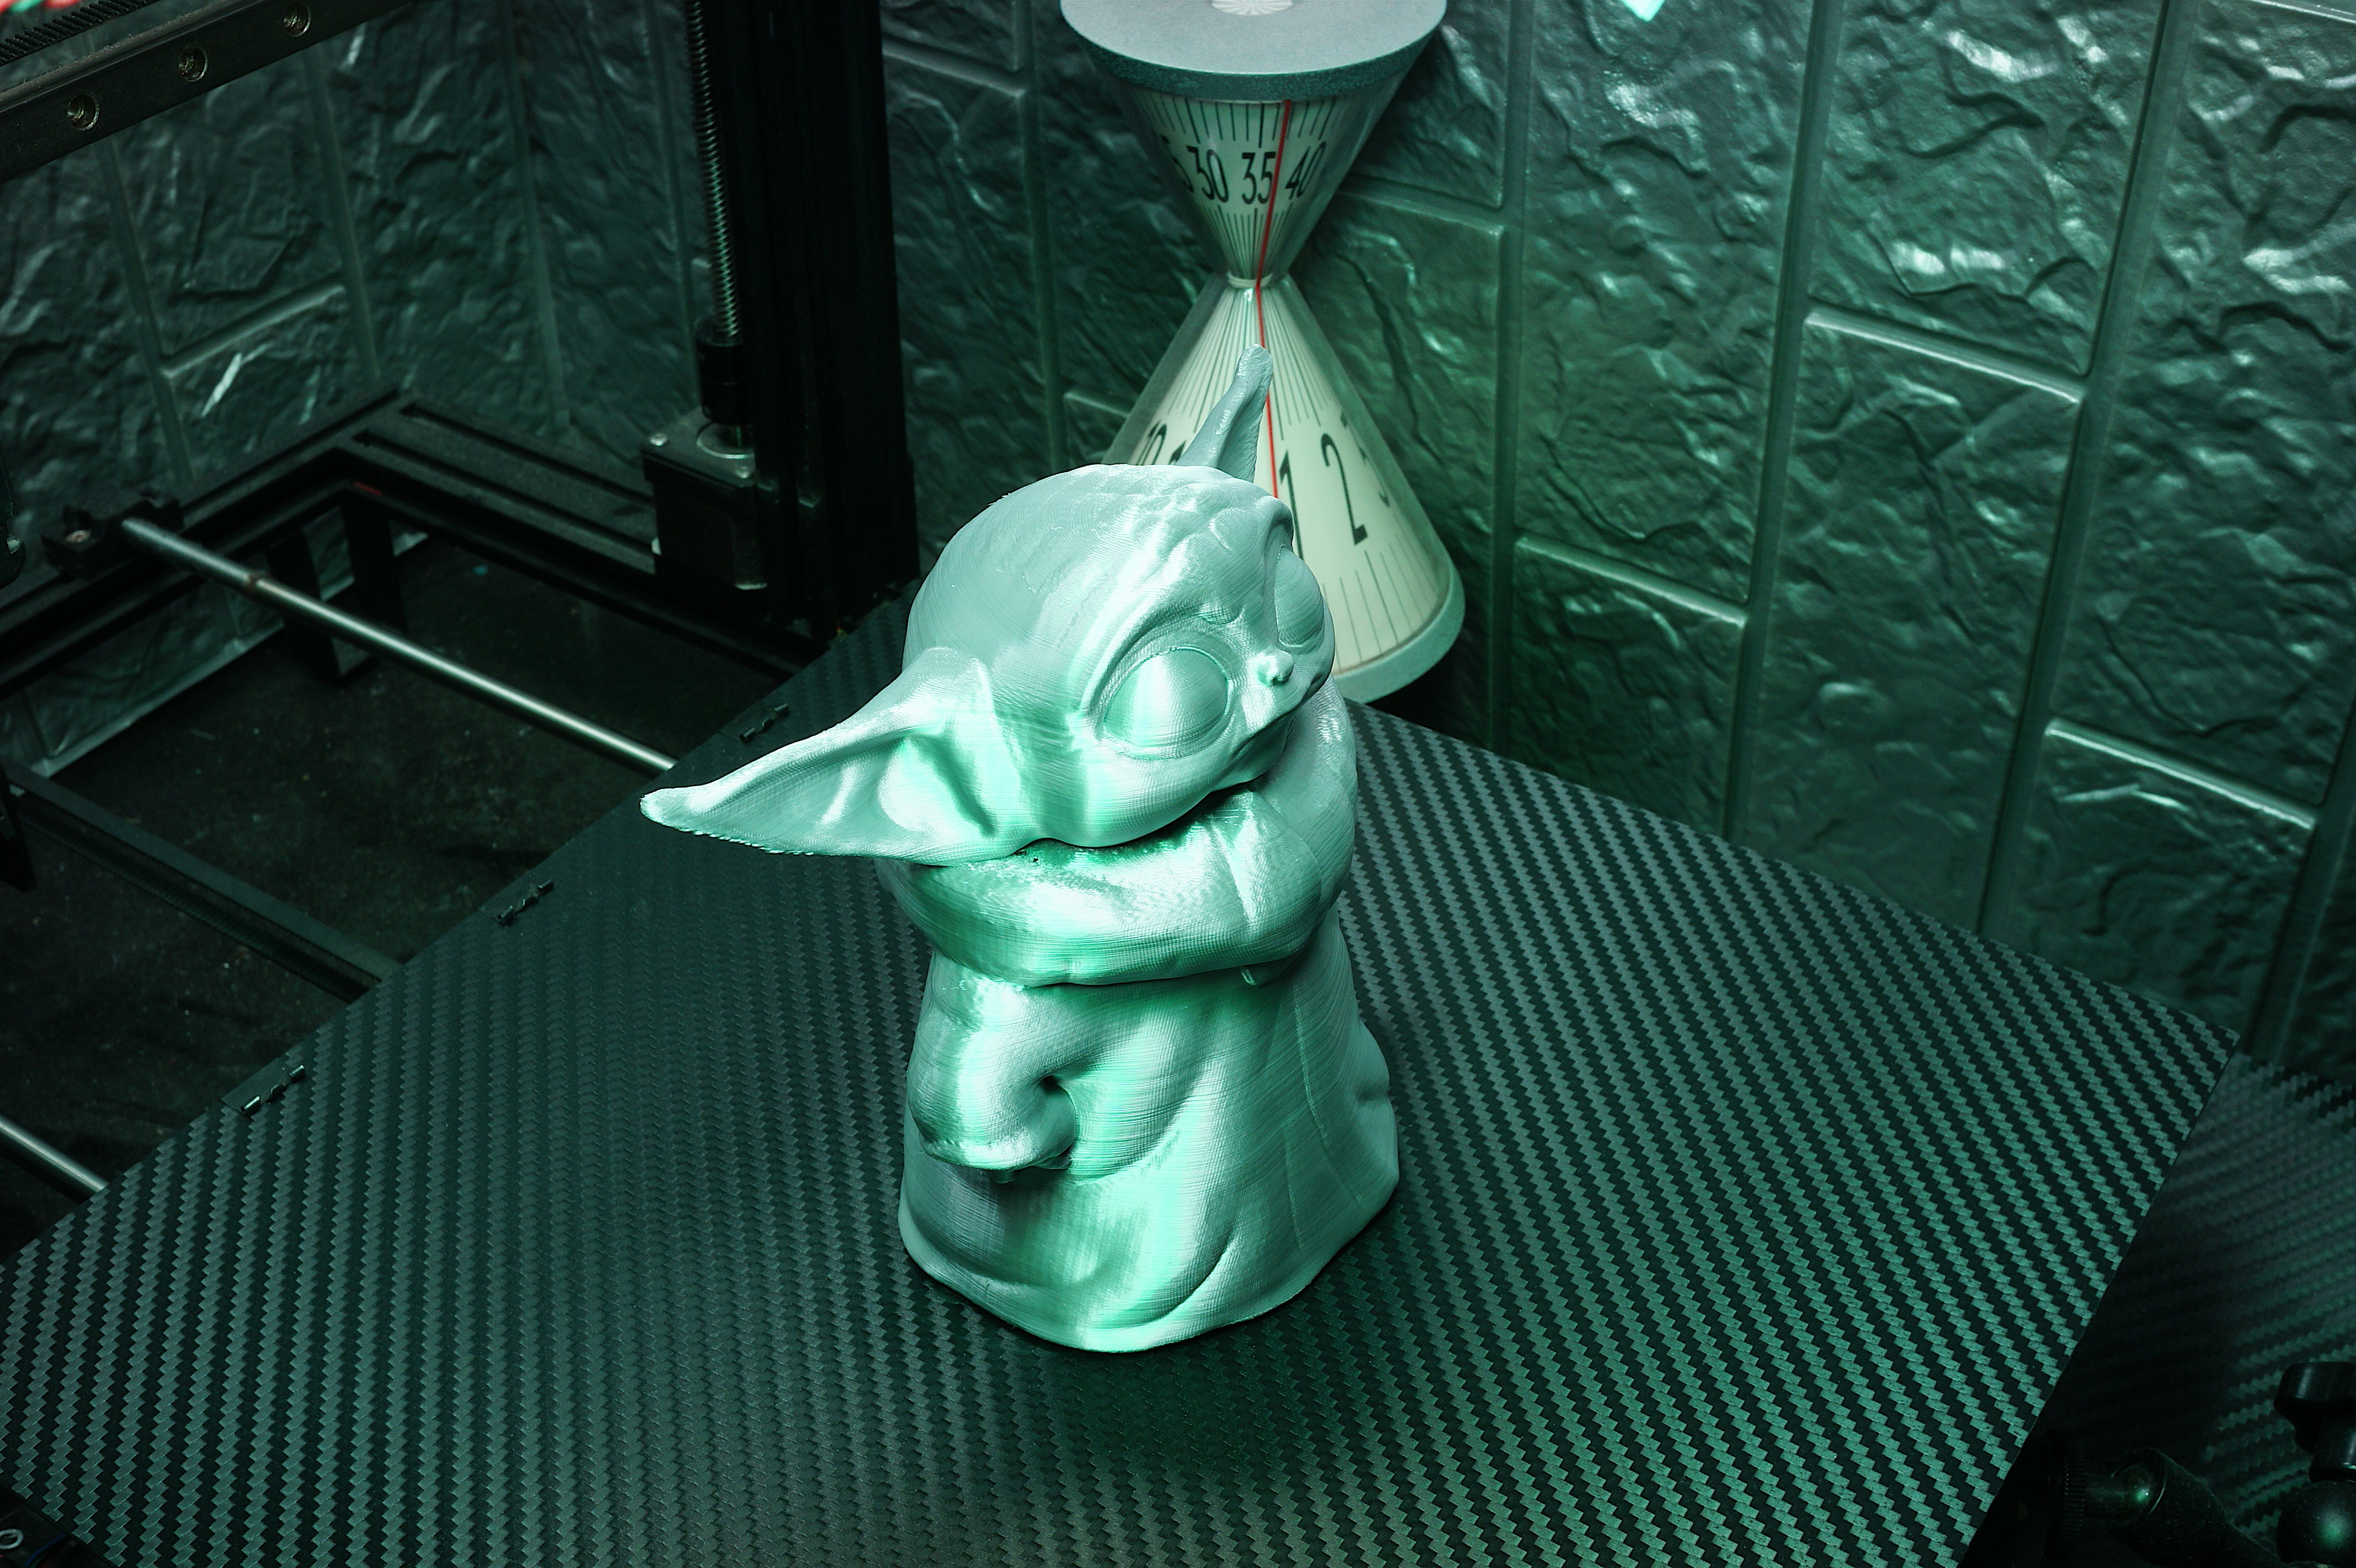Good: (626, 348, 1497, 1370)
